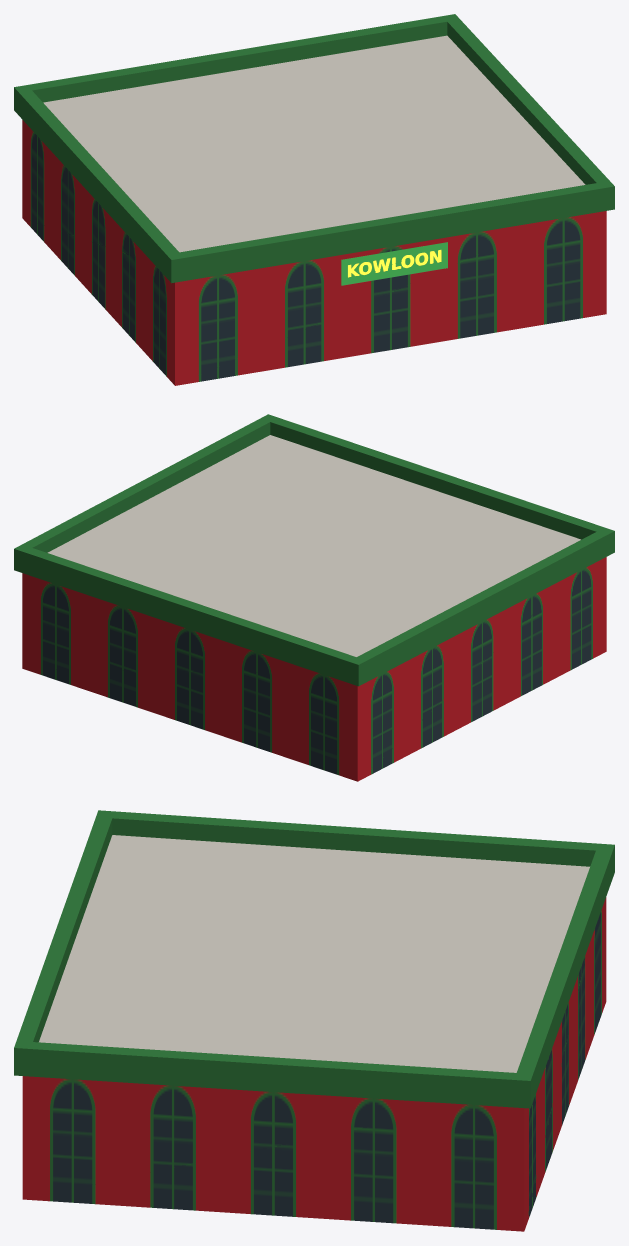
The model's file is kowloon.glb.
3 renders of one model, top to bottom at view 1: azimuth 30°, elevation 25°; view 2: azimuth 150°, elevation 25°; view 3: azimuth 270°, elevation 25°, orthographic. The views are drawn at different scales.
Parts seen in each view (by area): view 1: kowloon_lod0; view 2: kowloon_lod0; view 3: kowloon_lod0.
Part boxes in pixels (box(x1,y1,x2,y2)): kowloon_lod0: box(14, 14, 614, 385); kowloon_lod0: box(14, 414, 614, 781); kowloon_lod0: box(14, 810, 614, 1231).
Size of what is drawn, in the model's own units: 21.07 by 5.6 by 19.77.
4 materials, 2 textured.
